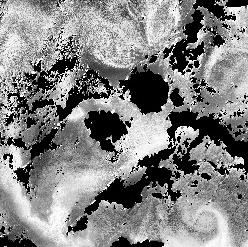CE: (191, 204, 225, 235)
